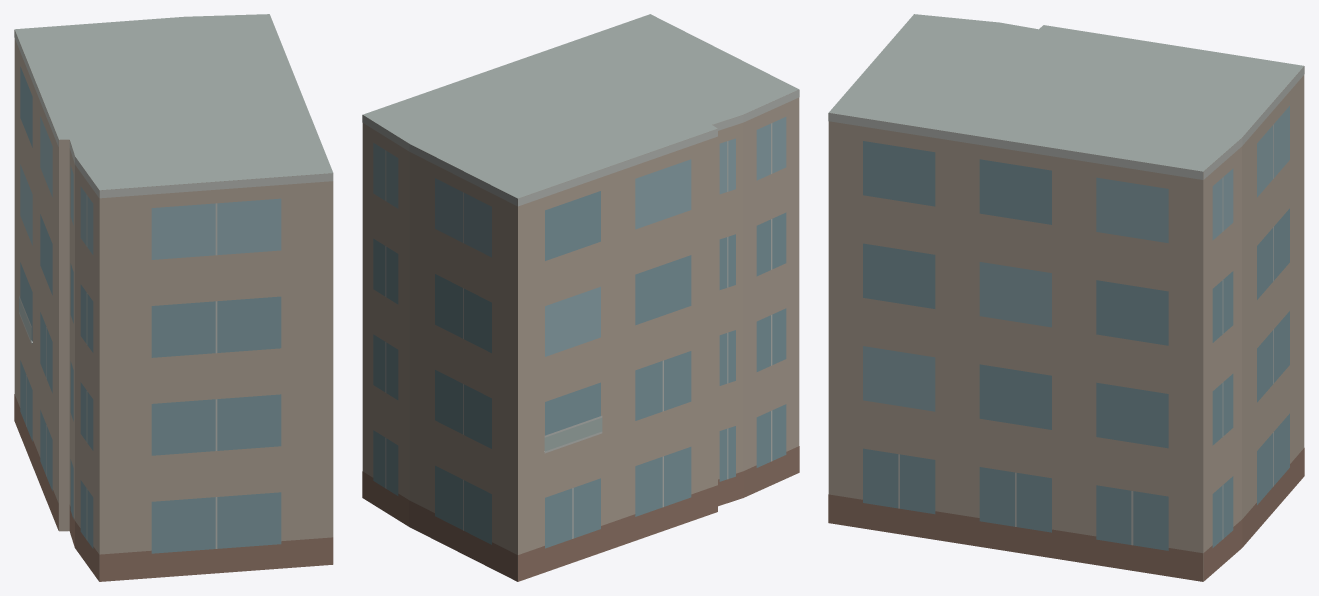
Rendered from survey-upis-32662529.glb.
3 renders of one model, left to right at view 1: azimuth 30°, elevation 25°; view 2: azimuth 150°, elevation 25°; view 3: azimuth 270°, elevation 25°, orthographic. The views are drawn at different scales.
Parts seen in each view (by area): view 1: survey-upis-32662529.tmp; view 2: survey-upis-32662529.tmp; view 3: survey-upis-32662529.tmp.
Boxes of the visible parts, x1=… form: survey-upis-32662529.tmp: x1=14, y1=14, x2=333, y2=581; survey-upis-32662529.tmp: x1=362, y1=14, x2=799, y2=581; survey-upis-32662529.tmp: x1=828, y1=14, x2=1304, y2=581.
Bounding box in the file's own units: 9.77 × 11.85 × 12.47.
